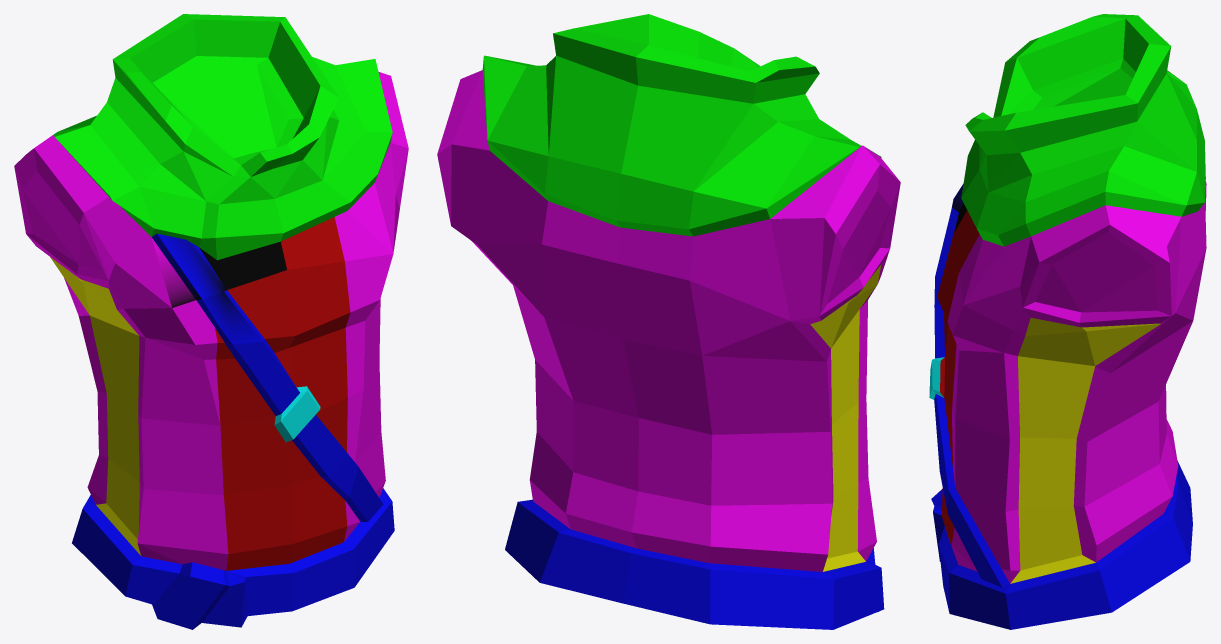
The model's file is Chr_Torso_Male_Static_06.fbx.
The picture shows the model from 3 angles, left to right: view 1: azimuth 30°, elevation 25°; view 2: azimuth 150°, elevation 25°; view 3: azimuth 270°, elevation 25°; orthographic projection. The views are drawn at different scales.
Visible parts, largest first — view 1: Chr_Torso_Male_06; view 2: Chr_Torso_Male_06; view 3: Chr_Torso_Male_06.
Boxes of the visible parts, bbox=[...] form: Chr_Torso_Male_06: bbox=[14, 14, 408, 629]; Chr_Torso_Male_06: bbox=[437, 14, 900, 629]; Chr_Torso_Male_06: bbox=[929, 14, 1206, 629].
Bounding box in the file's own units: 50.2 × 70.29 × 32.31.
